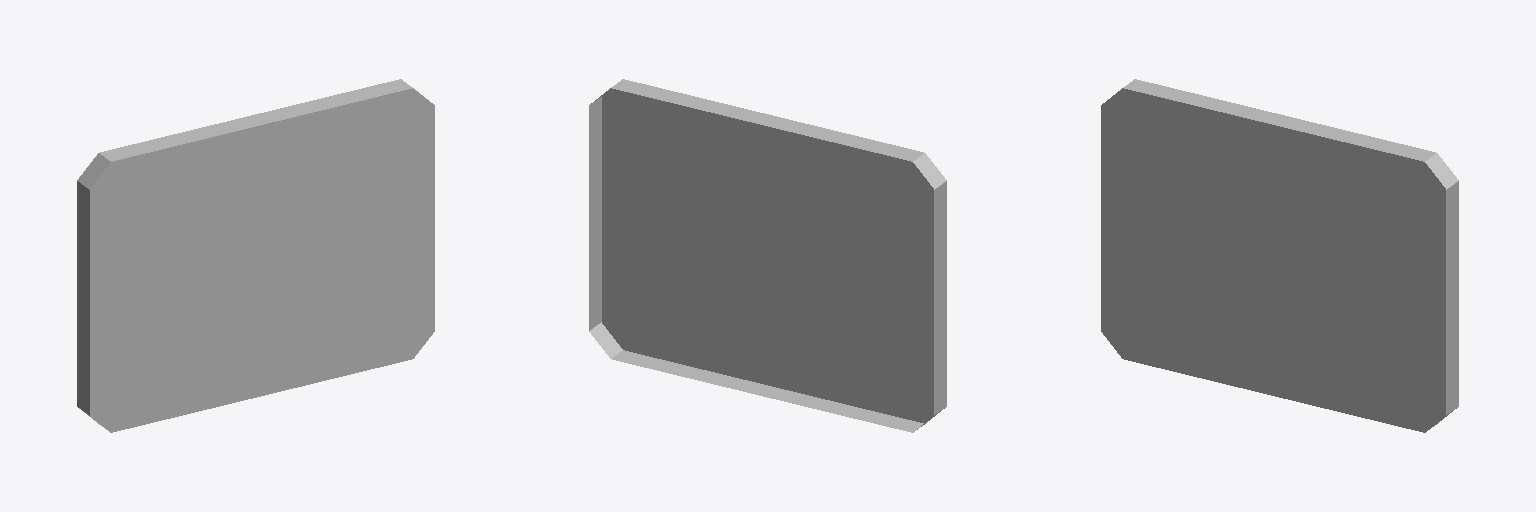
File: Screen.obj
3 renders of one model, left to right at view 1: azimuth 30°, elevation 25°; view 2: azimuth 150°, elevation 25°; view 3: azimuth 330°, elevation 25°, orthographic.
Parts seen in each view (by area): view 1: polygon1, polygon0; view 2: polygon1, polygon0; view 3: polygon1, polygon0.
Boxes of the visible parts, <box> form: polygon1: <box>77,79,434,432</box>; polygon0: <box>136,143,388,377</box>; polygon1: <box>589,79,946,432</box>; polygon0: <box>648,134,900,368</box>; polygon1: <box>1101,79,1458,432</box>; polygon0: <box>1147,143,1399,377</box>.
Size of the model in its own units: 32 by 24 by 2.